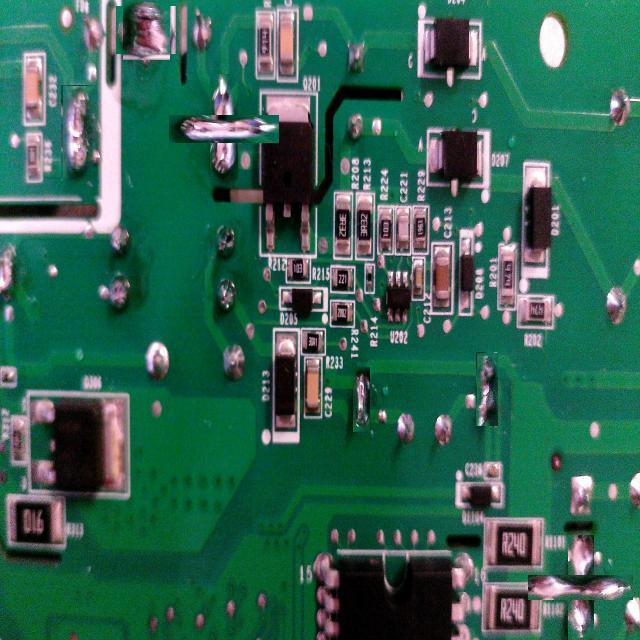Short_circuit: (189, 95, 259, 164), (548, 555, 614, 620), (62, 85, 94, 181), (120, 3, 174, 58), (476, 352, 498, 426), (352, 367, 370, 432)
